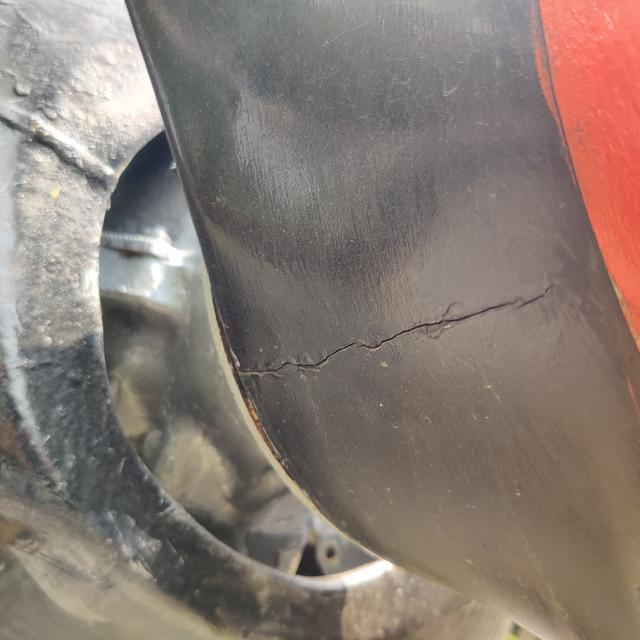crack: (226, 256, 568, 424)
